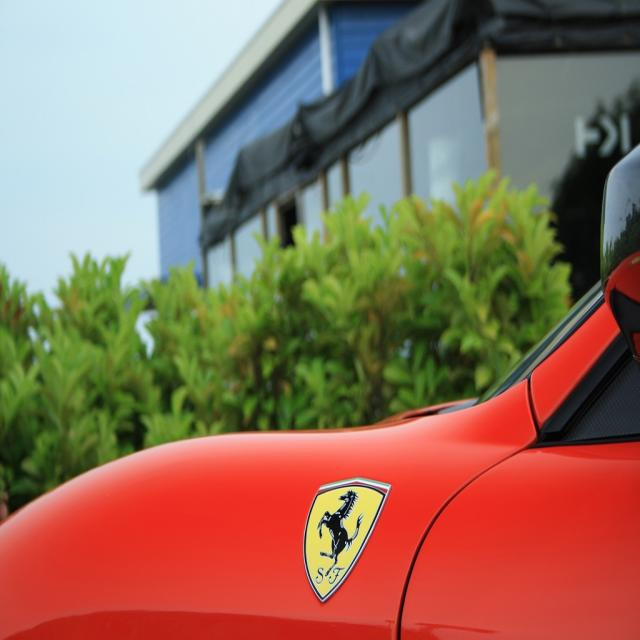ferrari: (303, 477, 392, 606)
